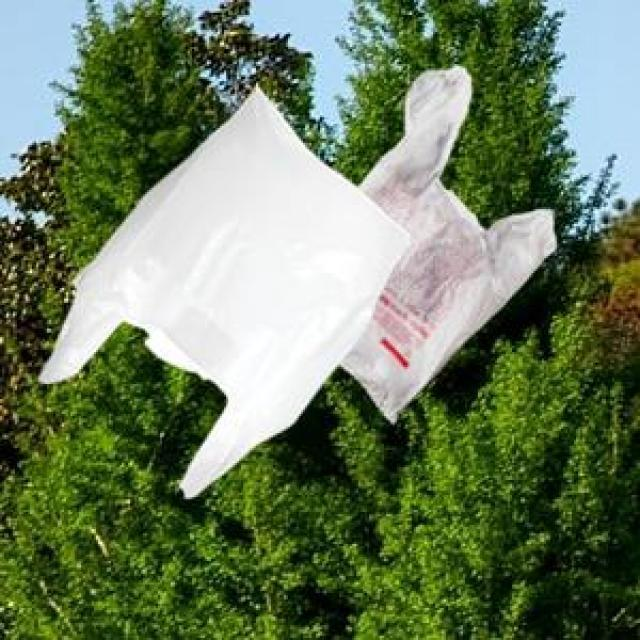waste: (45, 84, 407, 497), (320, 71, 566, 421)
